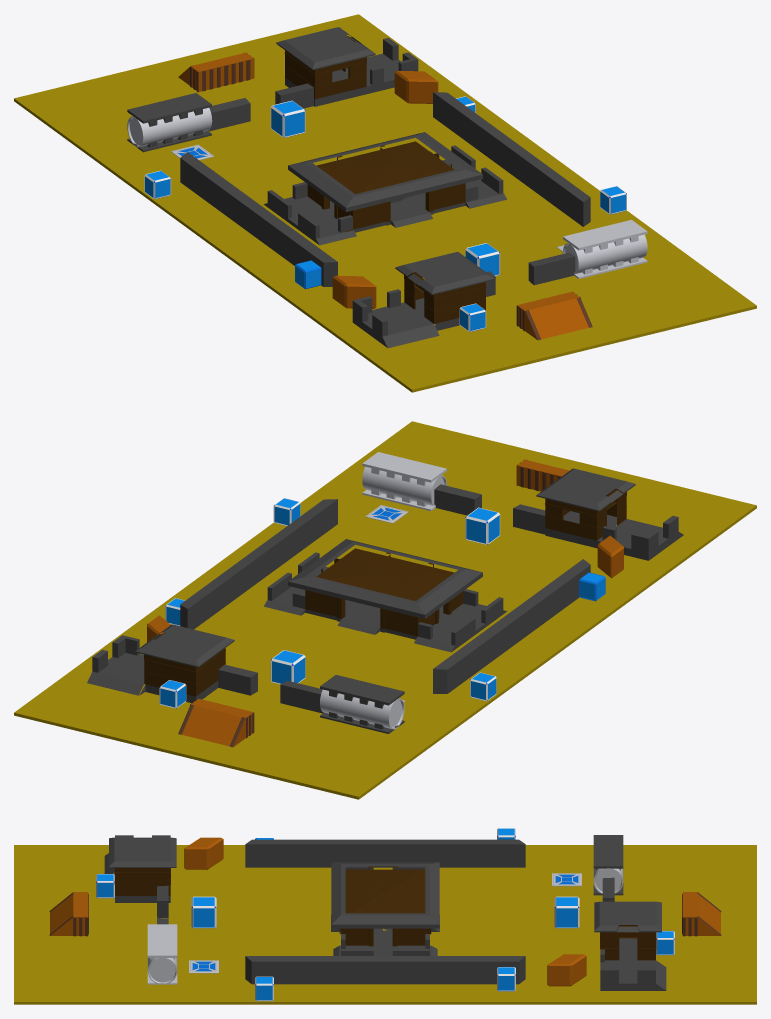
The model's file is fps%2Ftps map.glb.
3 views of the same model, one above another, from view 1: azimuth 30°, elevation 25°; view 2: azimuth 150°, elevation 25°; view 3: azimuth 270°, elevation 25° (orthographic). The views are drawn at different scales.
Visible parts, largest first — view 1: floor, big house, house.001, house, cover.008, Cube.018, cover.001, cover, Cylinder, Cylinder.001, Cube.007, Object (+11 smaller); view 2: floor, big house, house.001, house, cover.008, Cube.018, cover, Cylinder, Cylinder.001, Object, Cube.007, cover.005 (+11 smaller); view 3: floor, big house, cover.008, Cube.018, house, house.001, cover, cover.001, cover.007, cover.006, Object, Cube.007 (+11 smaller).
Part boxes in pixels (x1,y1,x2,y2): floor: [14, 14, 756, 392]; big house: [264, 132, 506, 245]; house.001: [352, 252, 494, 348]; house: [276, 27, 418, 106]; cover.008: [433, 92, 590, 226]; Cube.018: [180, 152, 337, 286]; cover.001: [516, 291, 592, 340]; cover: [178, 52, 254, 92]; Cylinder: [127, 107, 212, 147]; Cylinder.001: [562, 234, 647, 274]; Cube.007: [563, 220, 647, 253]; Object: [127, 93, 211, 126]; floor: [14, 421, 756, 799]; big house: [264, 539, 506, 652]; house.001: [536, 468, 683, 560]; house: [87, 624, 234, 703]; cover.008: [180, 499, 337, 629]; Cube.018: [433, 559, 590, 693]; cover: [178, 698, 254, 747]; Cylinder: [320, 689, 404, 729]; Cylinder.001: [362, 467, 446, 506]; Object: [320, 675, 404, 708]; Cube.007: [362, 452, 446, 485]; cover.005: [465, 507, 500, 544]; floor: [14, 845, 756, 1004]; big house: [331, 862, 439, 955]; cover.008: [245, 956, 525, 984]; Cube.018: [245, 839, 525, 867]; house: [594, 901, 666, 990]; house.001: [104, 835, 176, 902]; cover: [682, 892, 721, 936]; cover.001: [49, 892, 88, 936]; cover.007: [547, 954, 586, 986]; cover.006: [184, 837, 223, 869]; Object: [593, 835, 623, 870]; Cube.007: [147, 924, 177, 959].
Bounding box in the file's own units: 50 × 7.18 × 100.
